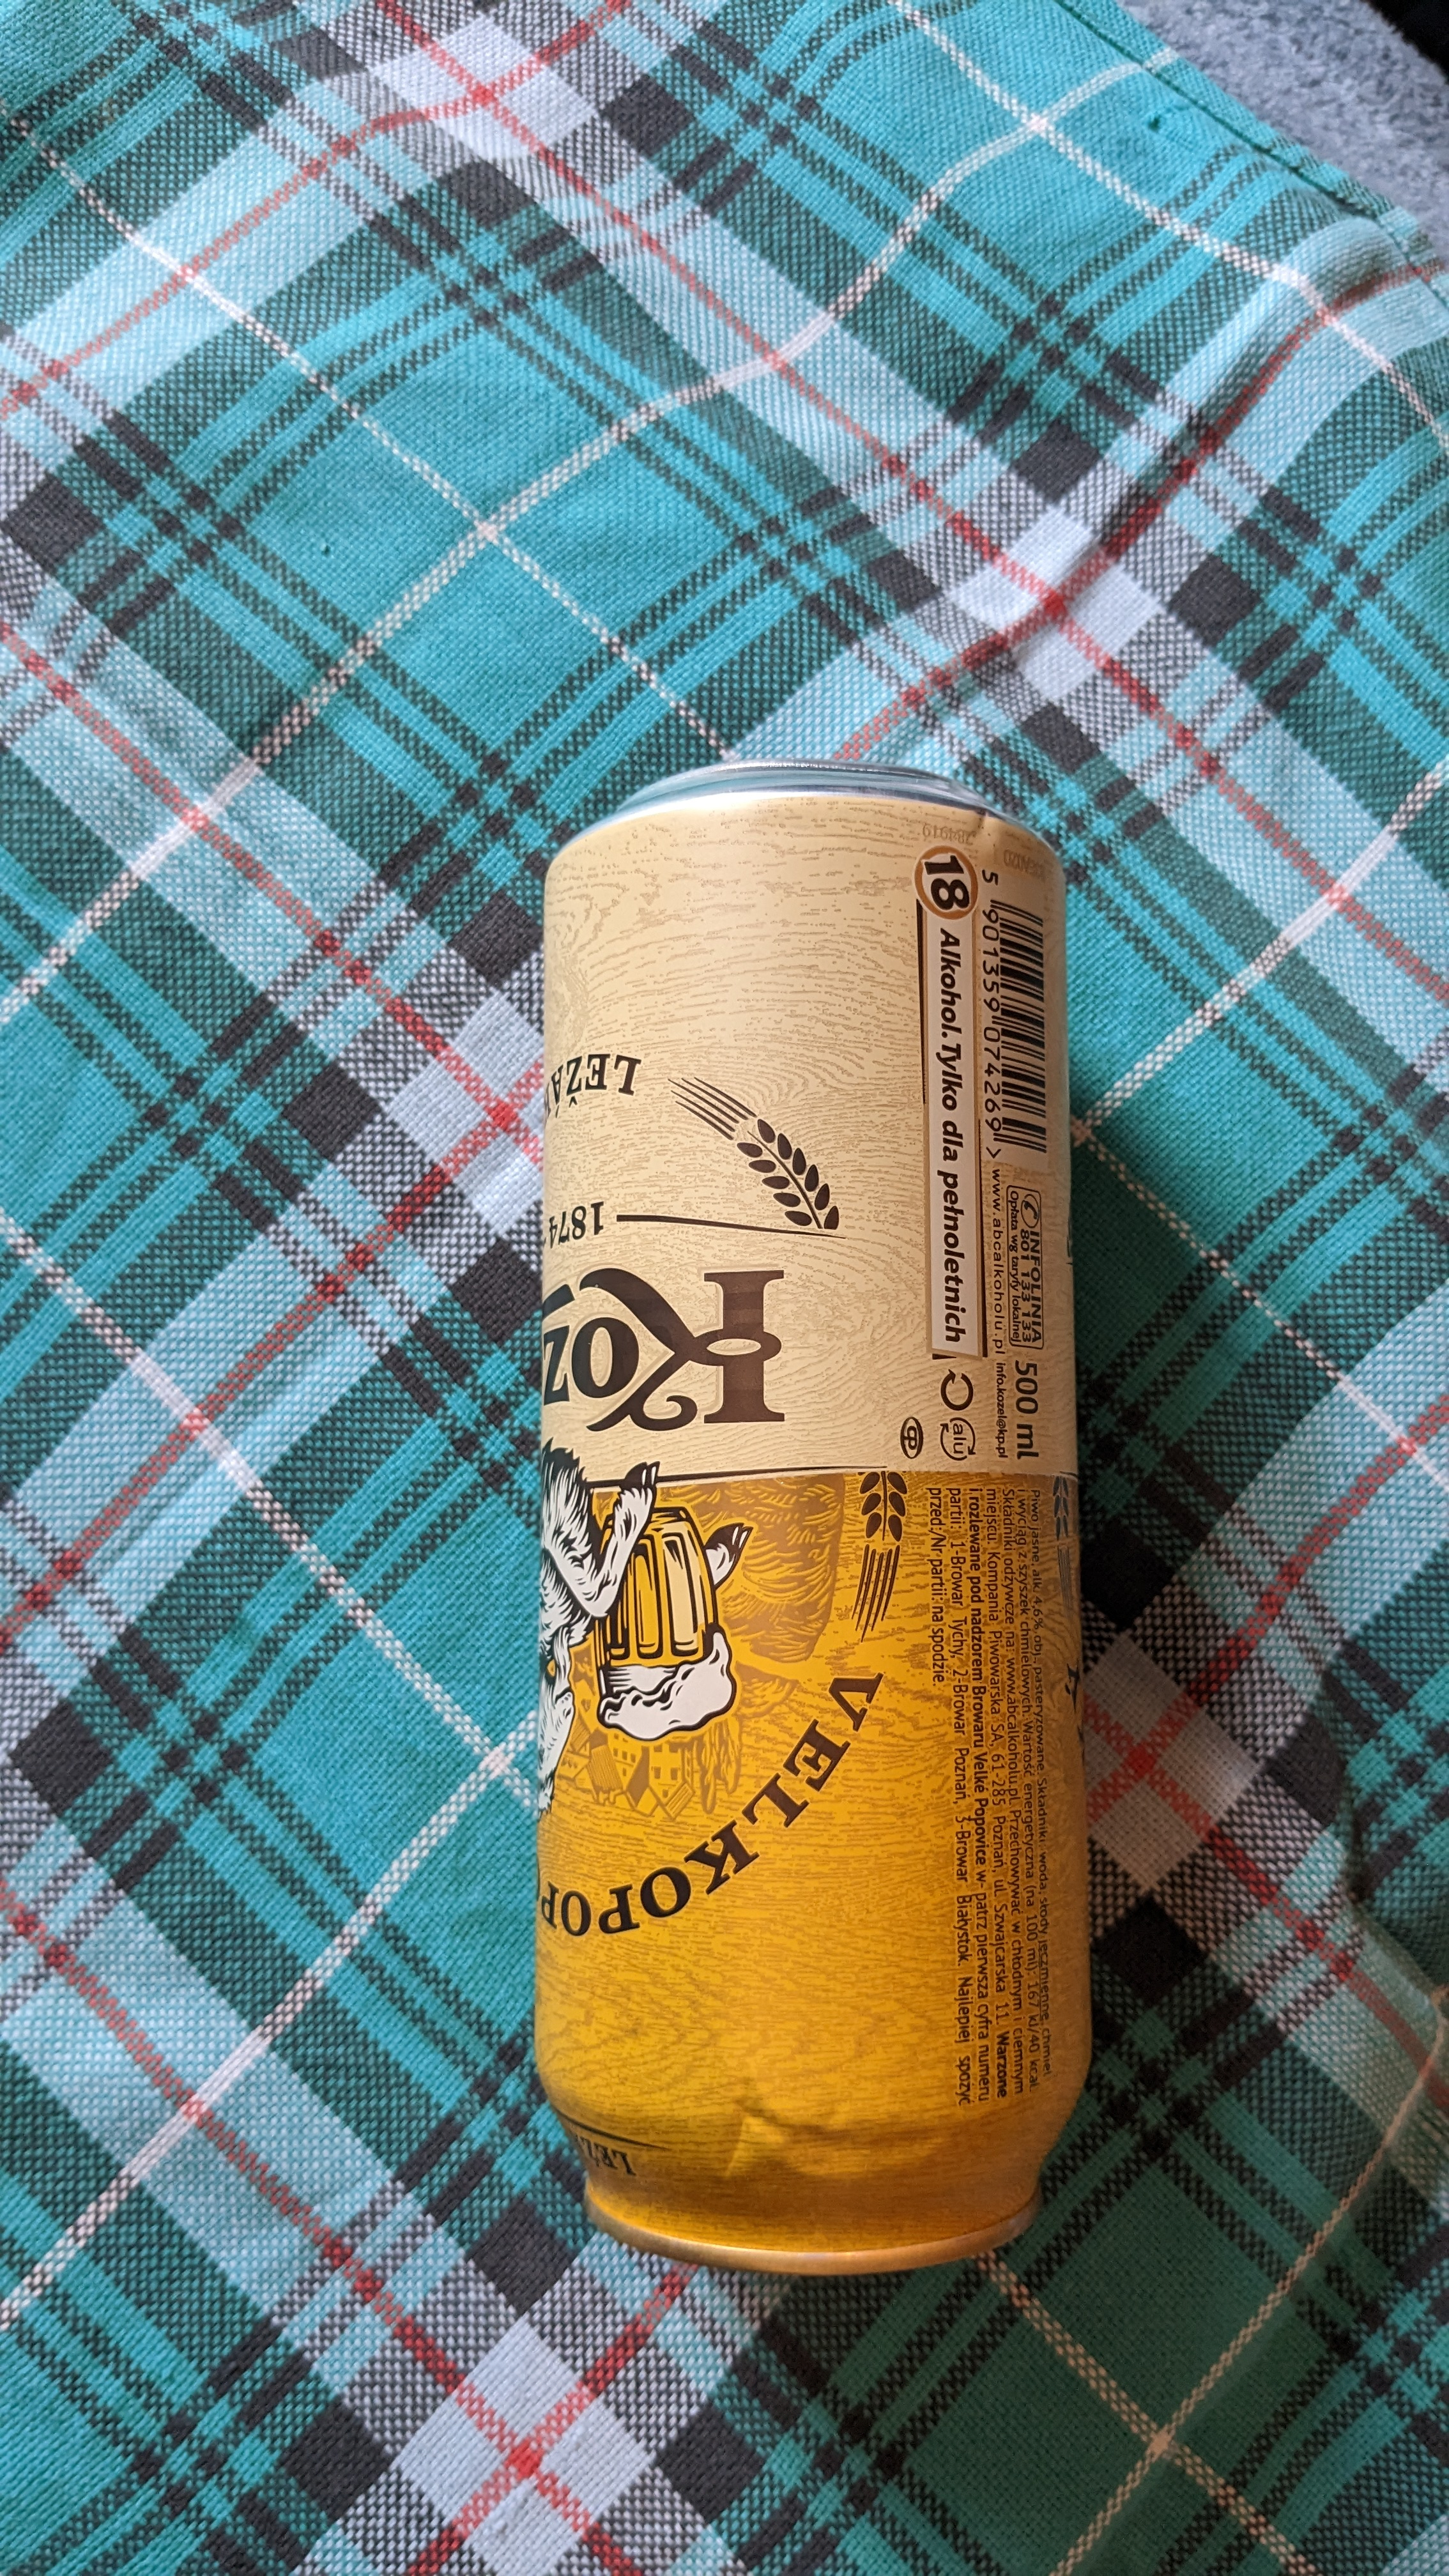kozel: (511, 757, 1138, 2318)
